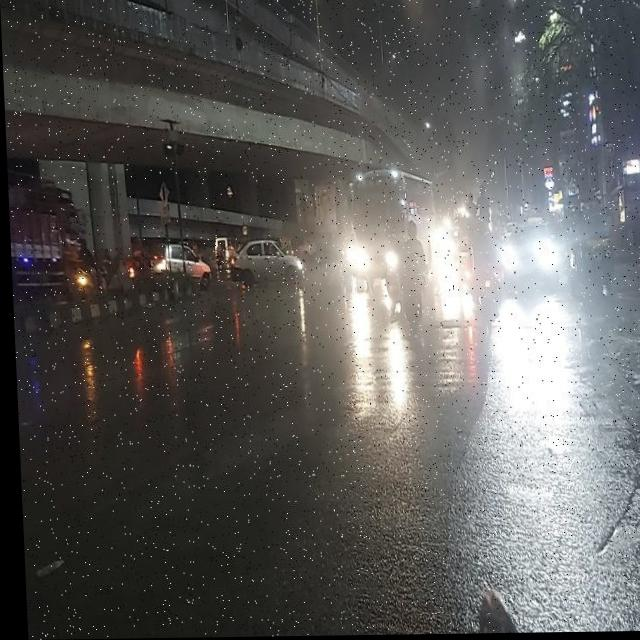bus: (338, 162, 437, 287), (10, 204, 100, 309)
car: (132, 226, 238, 301), (498, 218, 562, 306), (227, 230, 310, 296)
motorcycle: (381, 214, 437, 332), (461, 204, 508, 332)
